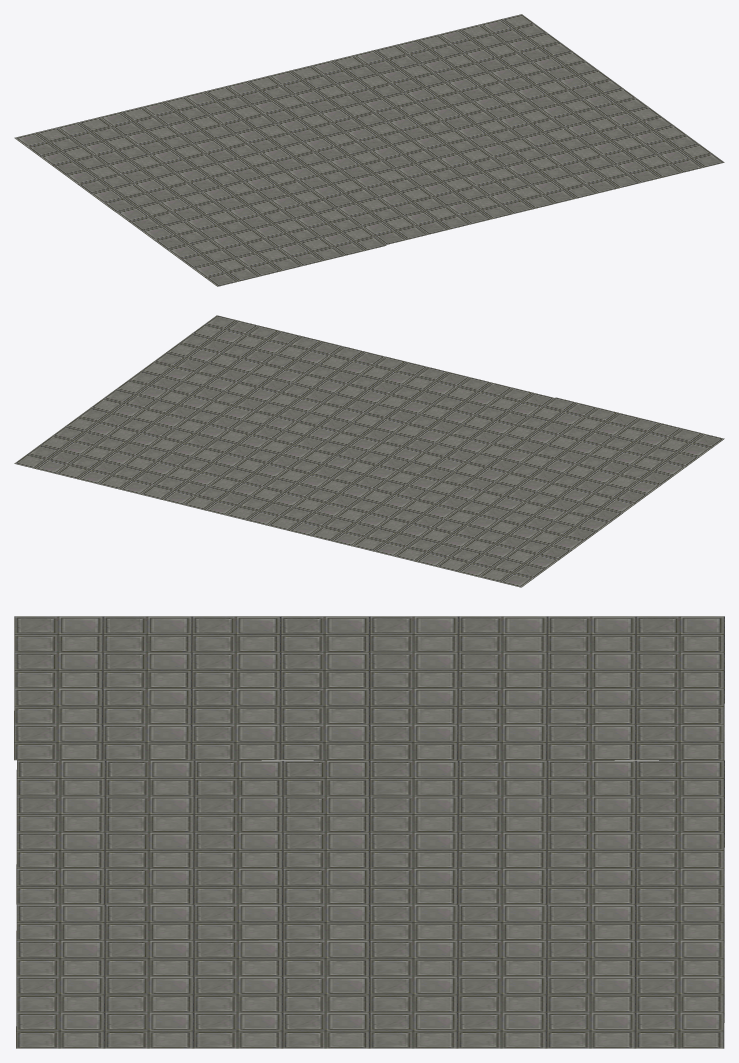
Rendered from S2_Build_XSC114.FBX.
3 renders of one model, top to bottom at view 1: azimuth 30°, elevation 25°; view 2: azimuth 150°, elevation 25°; view 3: azimuth 270°, elevation 25°, orthographic. The views are drawn at different scales.
Parts seen in each view (by area): view 1: S2_Build_XSC114; view 2: S2_Build_XSC114; view 3: S2_Build_XSC114.
Boxes of the visible parts, bbox=[...] form: S2_Build_XSC114: bbox=[14, 14, 724, 286]; S2_Build_XSC114: bbox=[14, 315, 724, 587]; S2_Build_XSC114: bbox=[14, 616, 724, 1048].
Size of the model in its own units: 4034 by 0.3549 by 2802.
